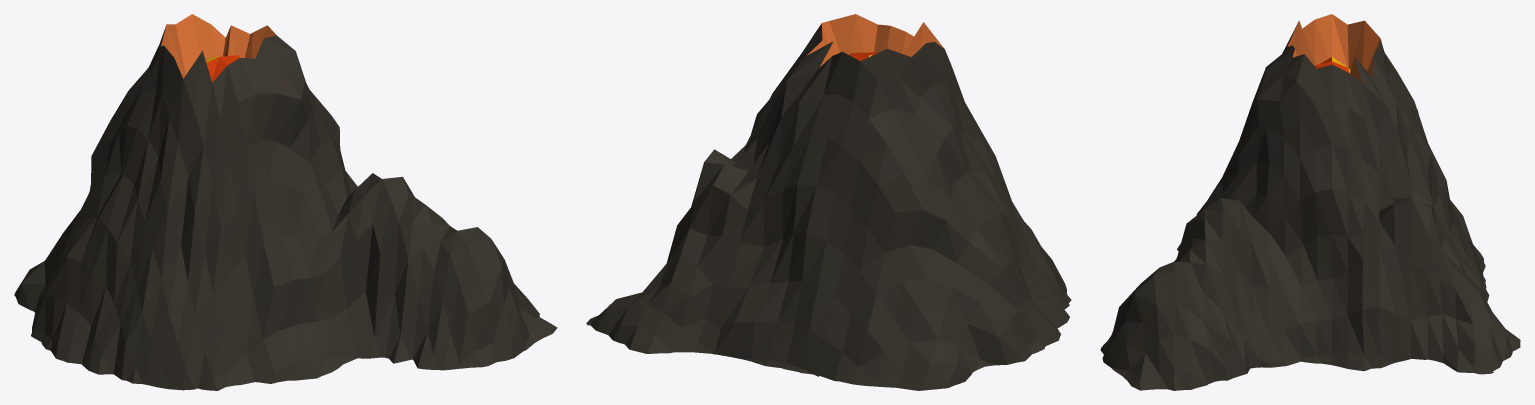
Rendered from mountainVolcano.dae.
3 renders of one model, left to right at view 1: azimuth 30°, elevation 25°; view 2: azimuth 150°, elevation 25°; view 3: azimuth 270°, elevation 25°, orthographic. The views are drawn at different scales.
Visible parts, largest first — view 1: Mountain_Volcano_02; view 2: Mountain_Volcano_02; view 3: Mountain_Volcano_02.
Part boxes in pixels (<box>): Mountain_Volcano_02: <box>14,14,557,390</box>; Mountain_Volcano_02: <box>586,14,1071,390</box>; Mountain_Volcano_02: <box>1100,14,1520,390</box>.
Bounding box in the file's own units: 2177 × 1420 × 2138.
